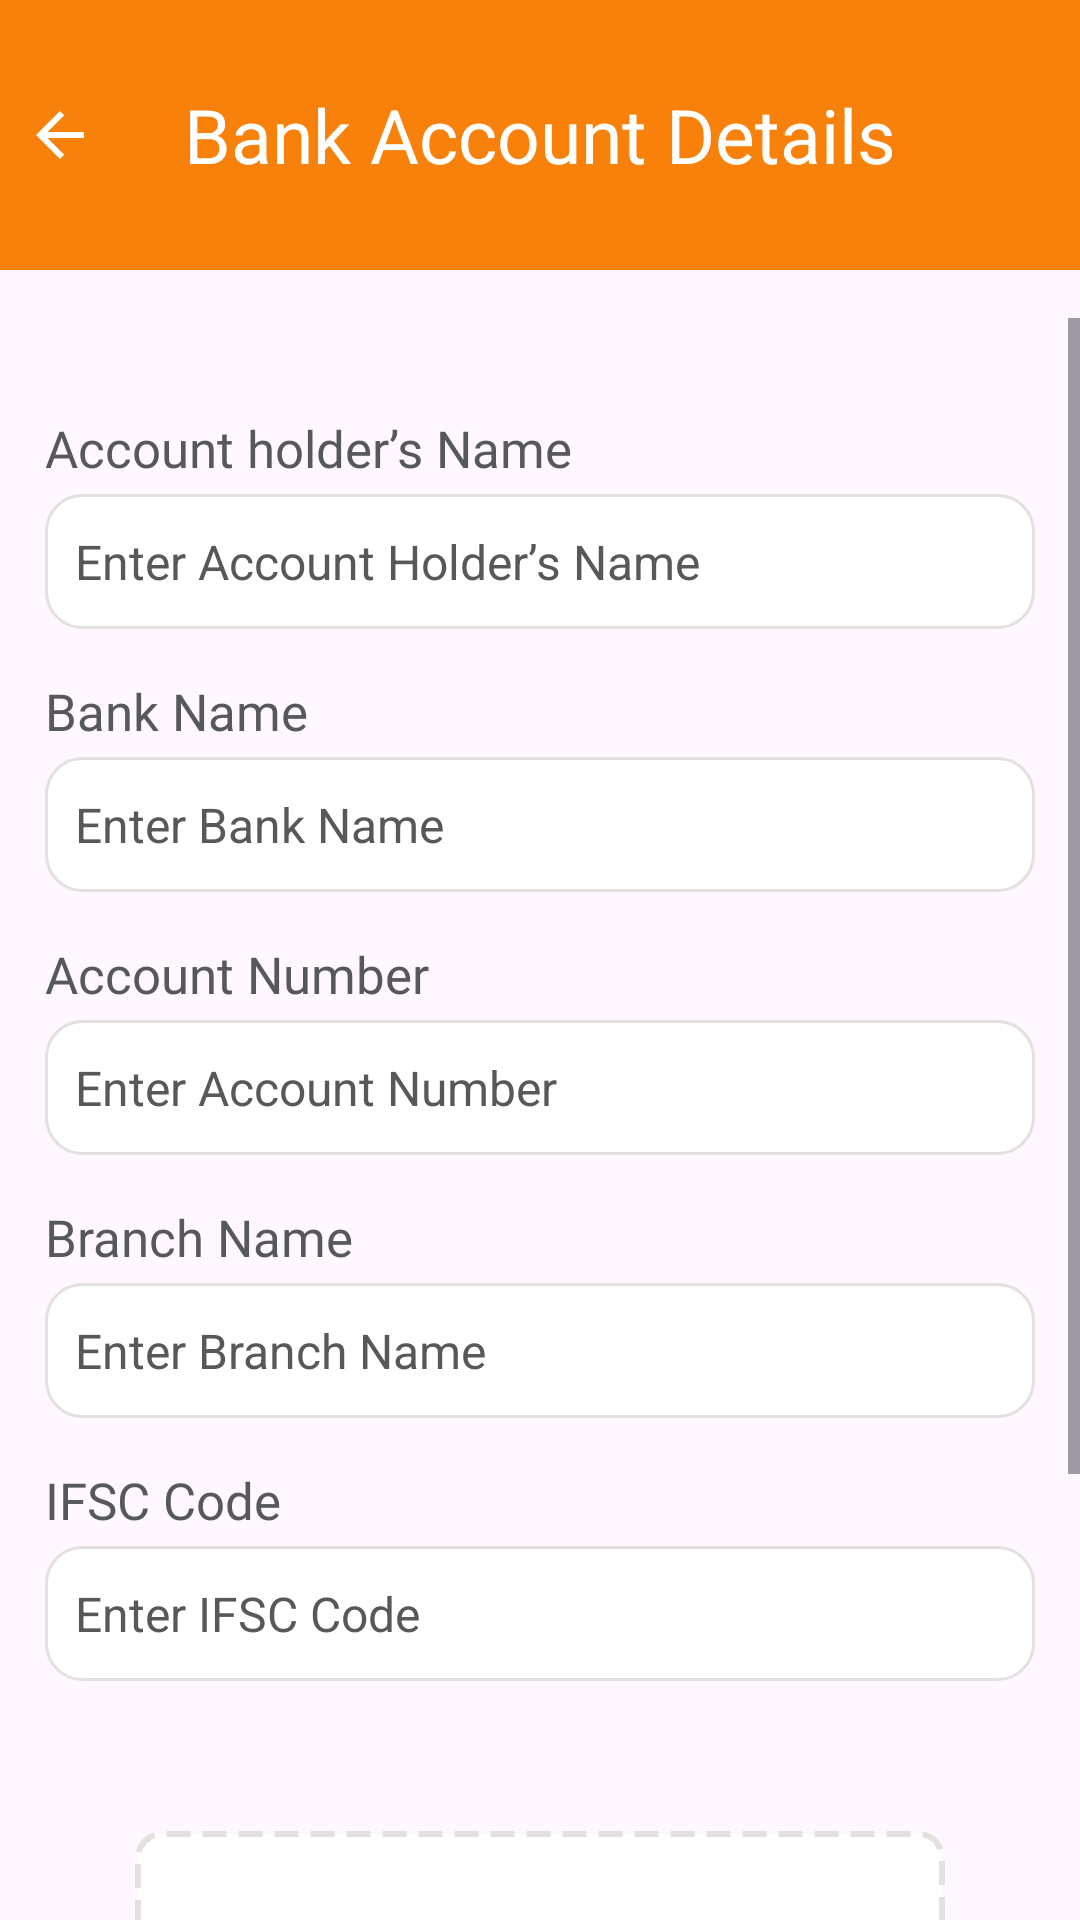

Where to tap for icons on this 1080w x 1920h app screen, as point (x, y):
Back: point (60, 135)
